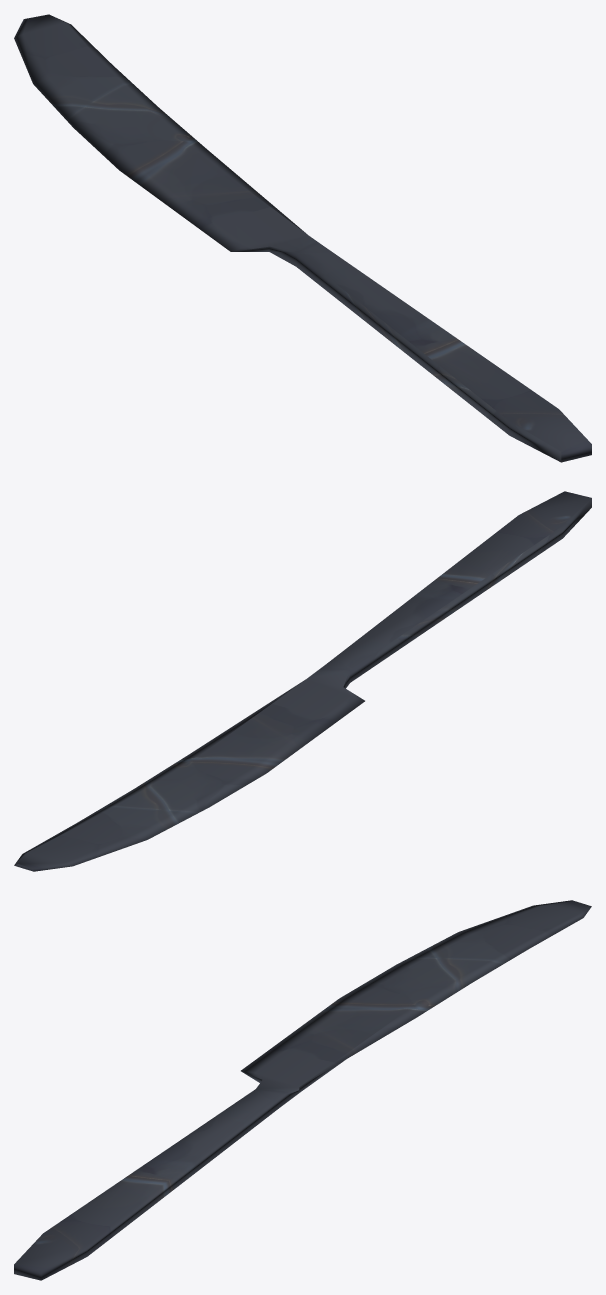
The model's file is Knife.fbx.
3 renders of one model, top to bottom at view 1: azimuth 30°, elevation 25°; view 2: azimuth 150°, elevation 25°; view 3: azimuth 330°, elevation 25°, orthographic. The views are drawn at different scales.
Parts seen in each view (by area): view 1: Knife; view 2: Knife; view 3: Knife.
Part boxes in pixels (x1,y1,x2,y2): Knife: (14, 14, 591, 462); Knife: (14, 491, 591, 871); Knife: (14, 900, 591, 1280).
Size of the model in its own units: 0.0518 by 0.00631 by 0.4605.
